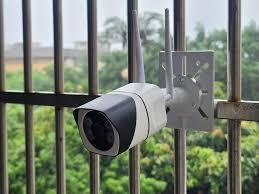Monitor: (70, 35, 233, 183)
